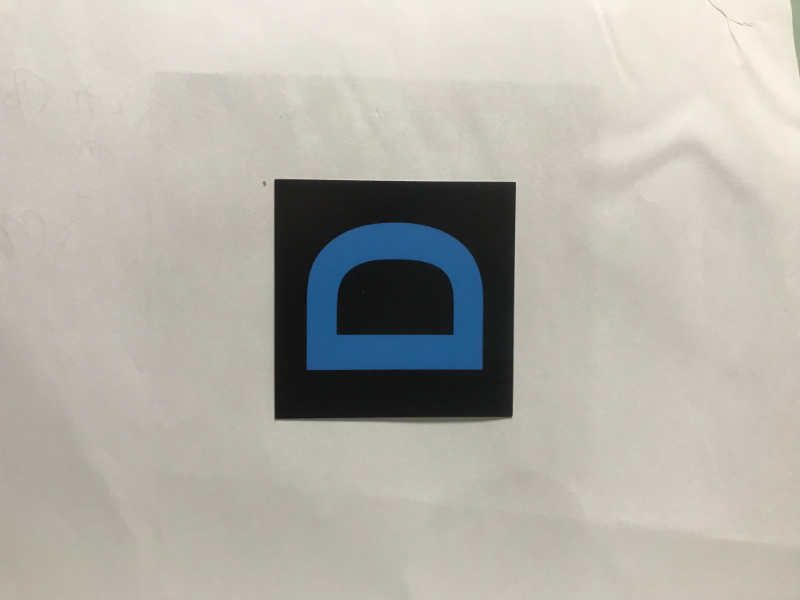D-14: (280, 185, 508, 412)
